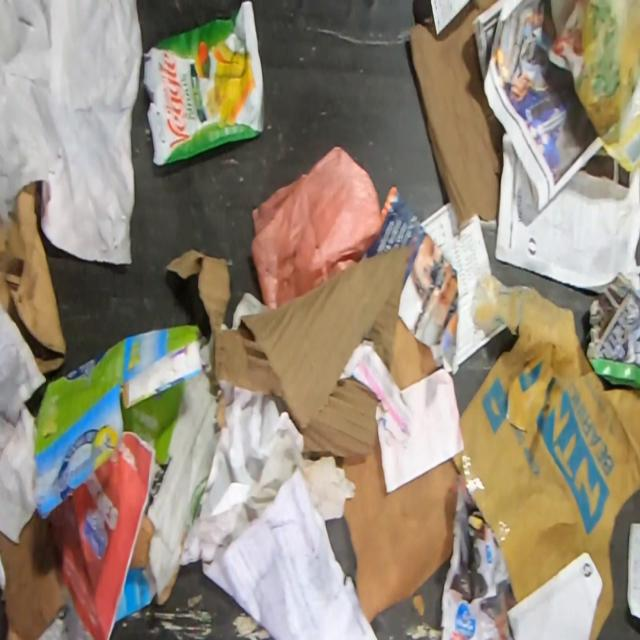cardboard: (460, 268, 640, 640), (168, 239, 438, 456), (35, 326, 202, 522), (341, 423, 456, 622), (410, 0, 505, 229), (0, 181, 67, 375), (0, 510, 66, 638)
soft_plastic: (250, 145, 381, 307), (140, 3, 266, 166), (550, 1, 640, 176)
